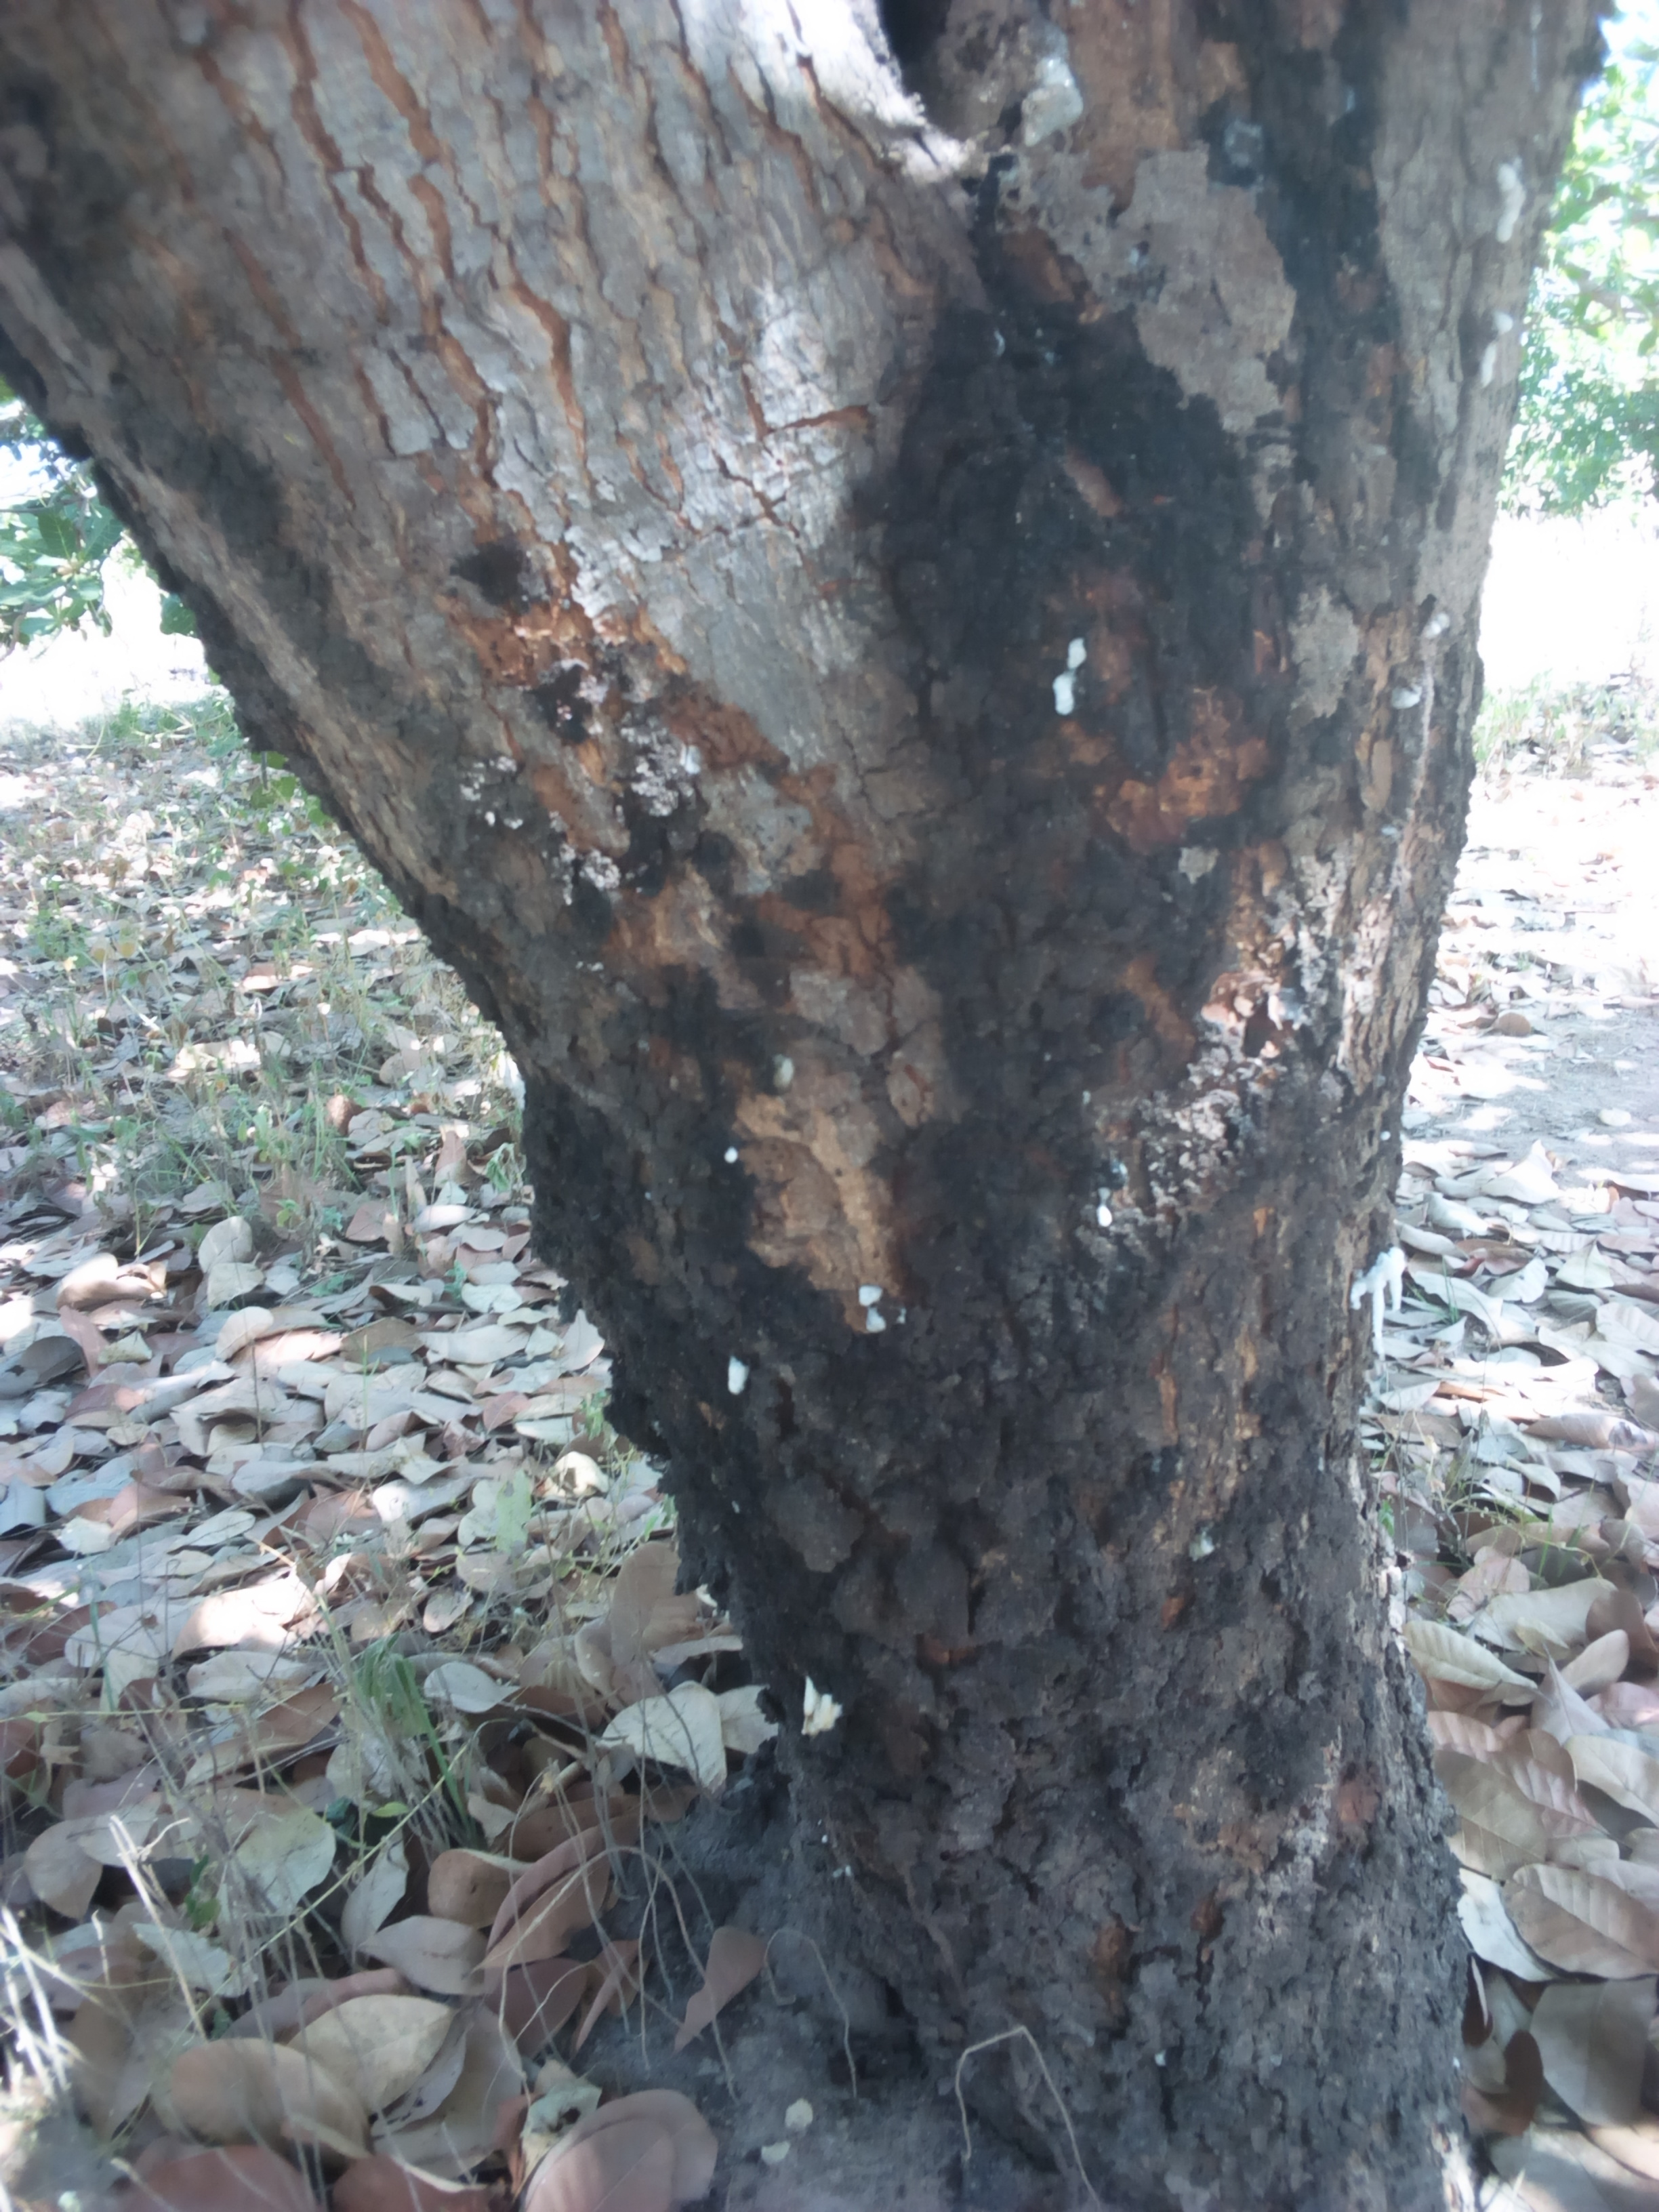Gommose: (901, 296, 1371, 1573), (504, 951, 920, 1597)
